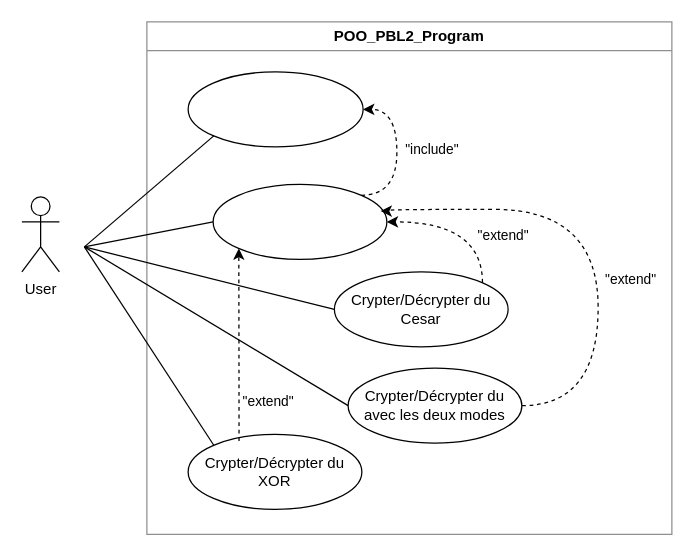
This 694x556 diagram has some shape labels left out. Here are the shapes that lost their labels. From the top down, the centre of each, then its label:
At (275,109): "Renseigner un fichier".
At (299,221): "Choisir mode de chiffrement".
